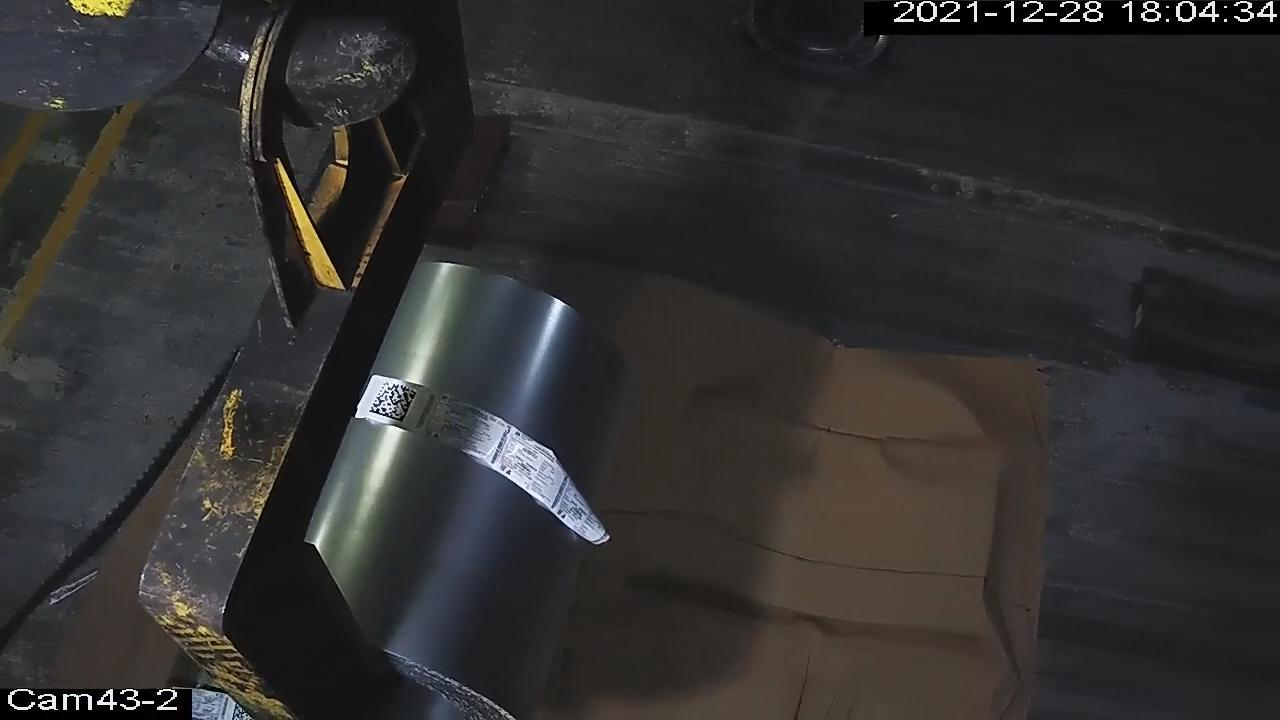data matrix: (366, 378, 420, 428)
